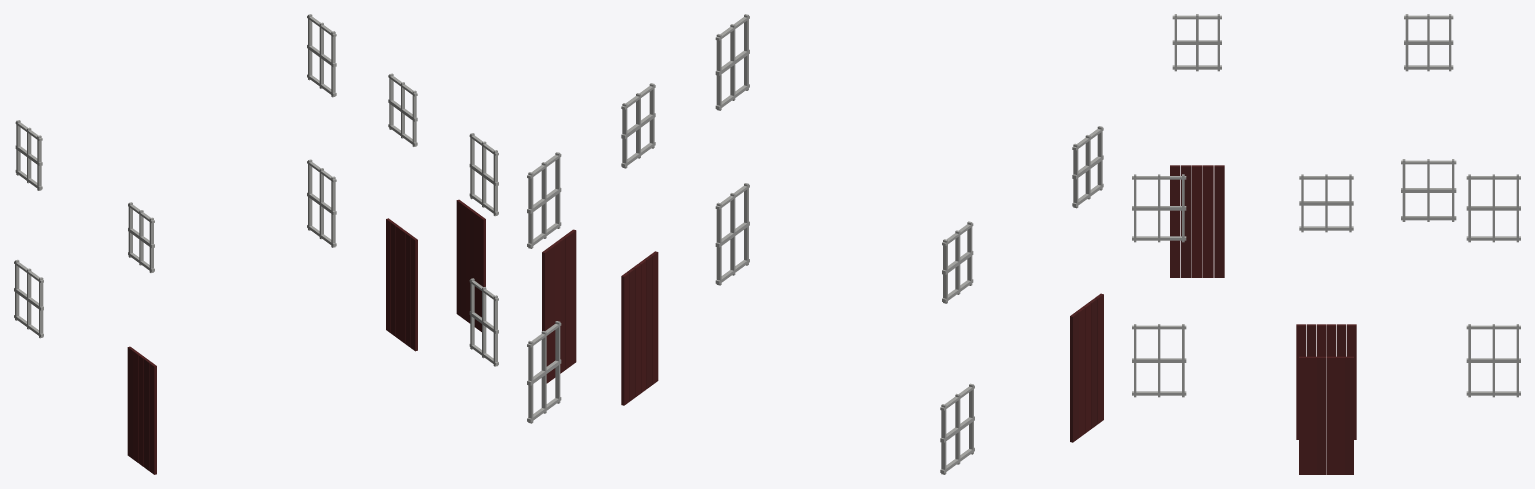
The model's file is SM_Bld_107_Wood.glb.
3 renders of one model, left to right at view 1: azimuth 30°, elevation 25°; view 2: azimuth 150°, elevation 25°; view 3: azimuth 270°, elevation 25°, orthographic. The views are drawn at different scales.
Visible parts, largest first — view 1: SM_Bld_107_Wood; view 2: SM_Bld_107_Wood; view 3: SM_Bld_107_Wood.
Part boxes in pixels (left/top/right/bottom): SM_Bld_107_Wood: left=14, top=14, right=498, bottom=474; SM_Bld_107_Wood: left=527, top=14, right=1103, bottom=474; SM_Bld_107_Wood: left=1132, top=14, right=1520, bottom=474.
Size of the model in its own units: 7.64 by 4.75 by 6.32.
